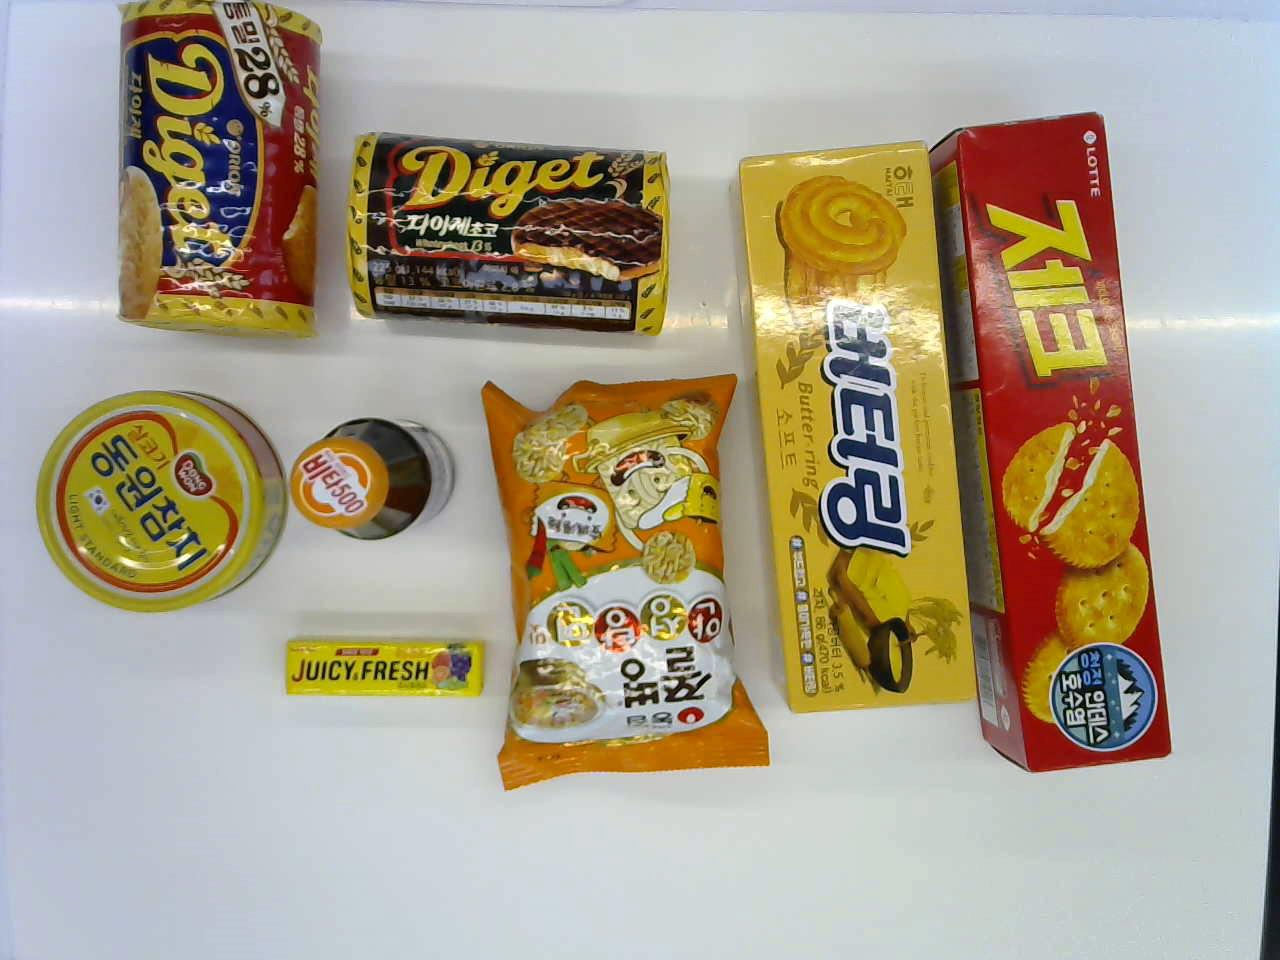buttering: (736, 124, 961, 717)
diget_choco: (347, 120, 689, 347)
diget_ori: (103, 2, 324, 350)
jjolbyung_noodle: (487, 360, 753, 800)
juicyfresh: (282, 632, 482, 705)
tuna: (34, 384, 289, 632)
vita500: (283, 403, 458, 546)
zec: (950, 104, 1173, 773)
